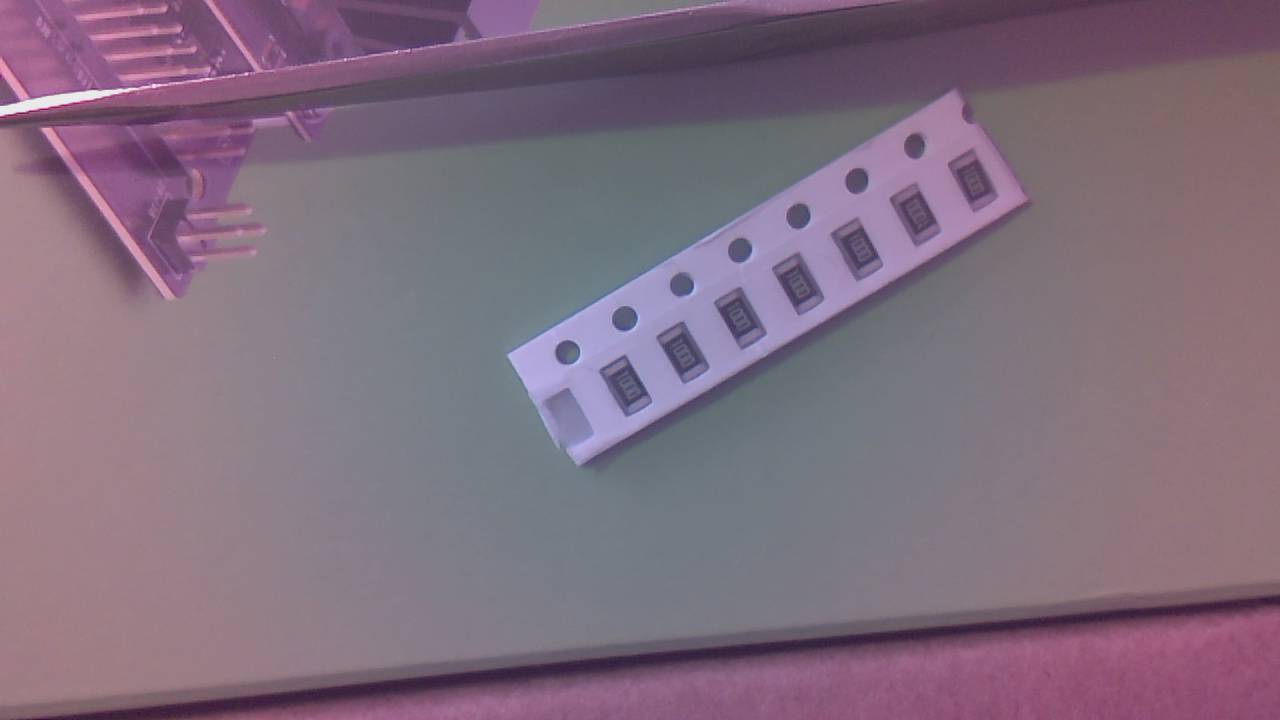Resistor: (660, 326, 717, 391), (603, 360, 660, 422), (836, 222, 889, 287), (720, 291, 773, 355), (955, 154, 1005, 218), (779, 260, 831, 321), (897, 188, 948, 250)
